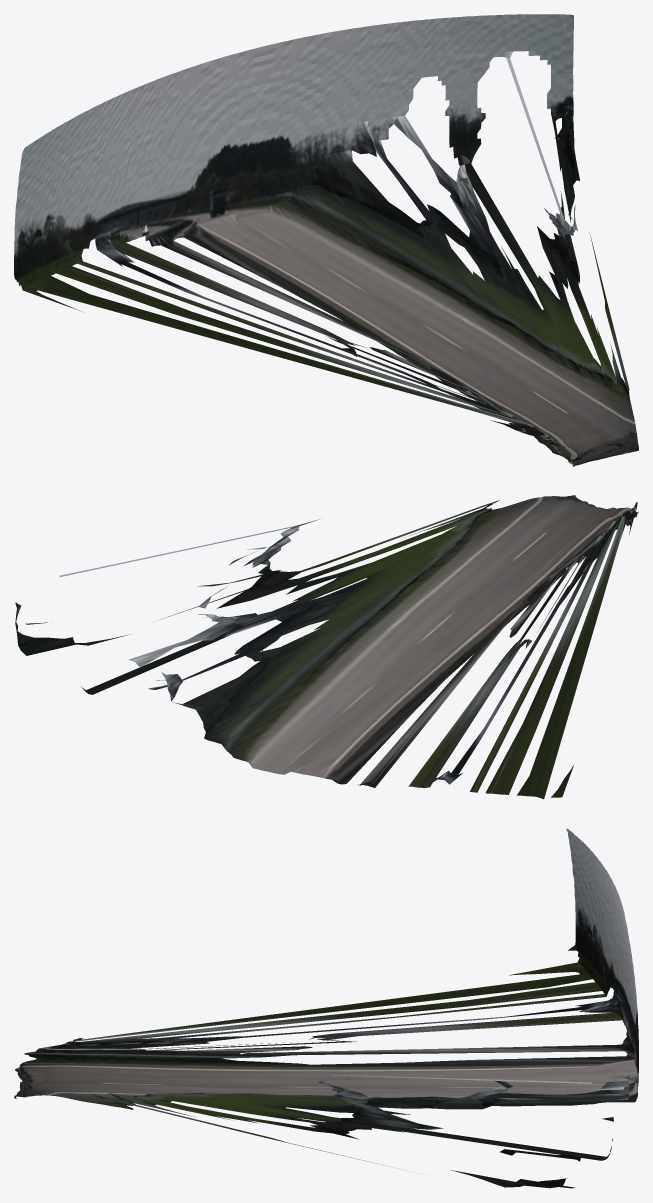
3 renders of one model, top to bottom at view 1: azimuth 30°, elevation 25°; view 2: azimuth 150°, elevation 25°; view 3: azimuth 270°, elevation 25°, orthographic. The views are drawn at different scales.
Parts seen in each view (by area): view 1: defaultobject; view 2: defaultobject; view 3: defaultobject.
Boxes of the visible parts, box(x1,y1,x2,y2) form: defaultobject: box(14, 14, 638, 466); defaultobject: box(15, 495, 638, 799); defaultobject: box(14, 828, 638, 1188).
Bounding box in the file's own units: 41.11 × 12.09 × 44.44.
1 material, 1 textured.
